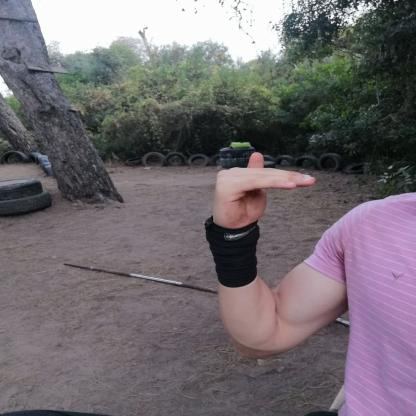KHAA: (196, 143, 329, 238)
